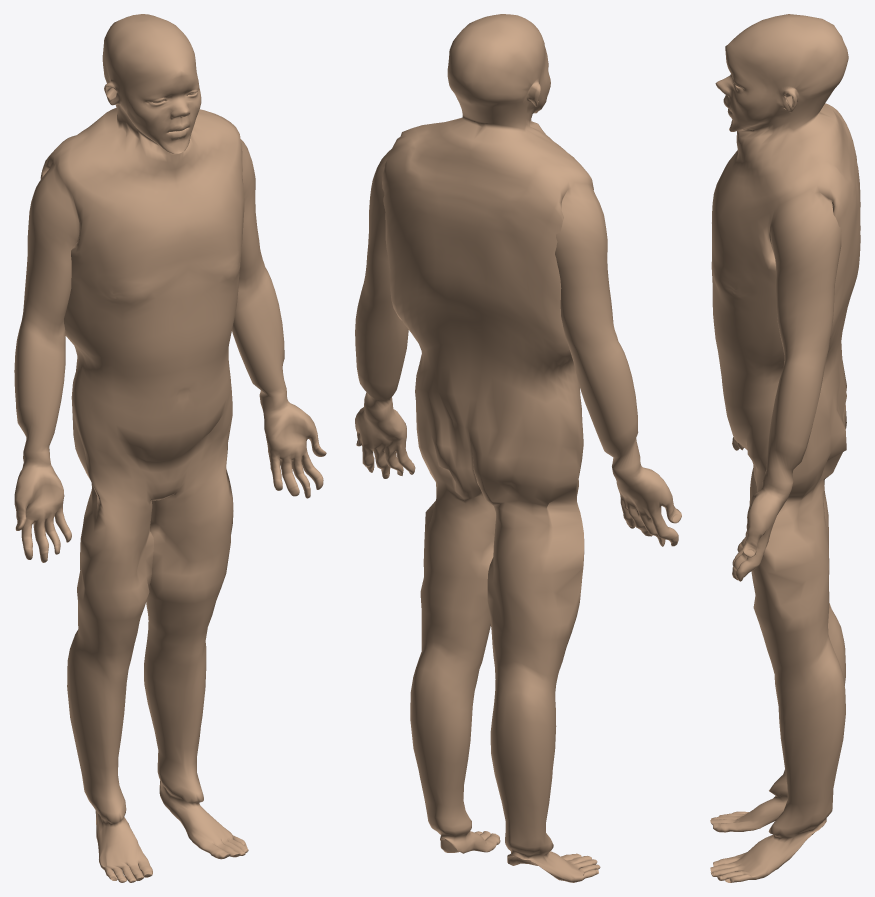
The model's file is skin-candidate-r34.glb.
The picture shows the model from 3 angles, left to right: view 1: azimuth 30°, elevation 25°; view 2: azimuth 150°, elevation 25°; view 3: azimuth 270°, elevation 25°; orthographic projection. The views are drawn at different scales.
Parts seen in each view (by area): view 1: MakeHuman_AT10_skin_fit_candidate_r34; view 2: MakeHuman_AT10_skin_fit_candidate_r34; view 3: MakeHuman_AT10_skin_fit_candidate_r34.
Part boxes in pixels (x1,y1,x2,y2): MakeHuman_AT10_skin_fit_candidate_r34: [14, 14, 326, 882]; MakeHuman_AT10_skin_fit_candidate_r34: [355, 14, 681, 882]; MakeHuman_AT10_skin_fit_candidate_r34: [710, 14, 860, 882].
Bounding box in the file's own units: 0.6719 × 1.71 × 0.28.
